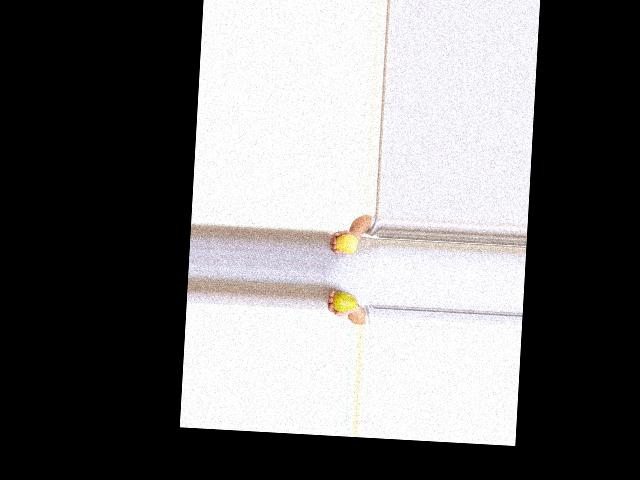apple: (333, 231, 358, 254)
